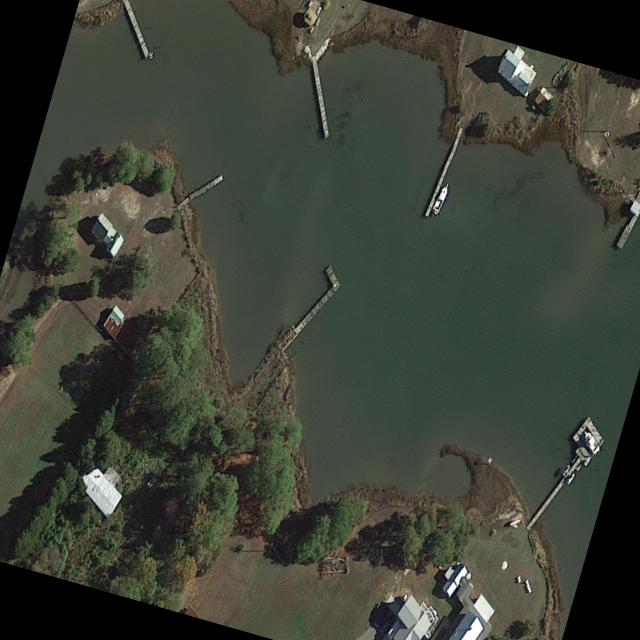ship: (431, 179, 453, 215), (581, 426, 601, 455)
